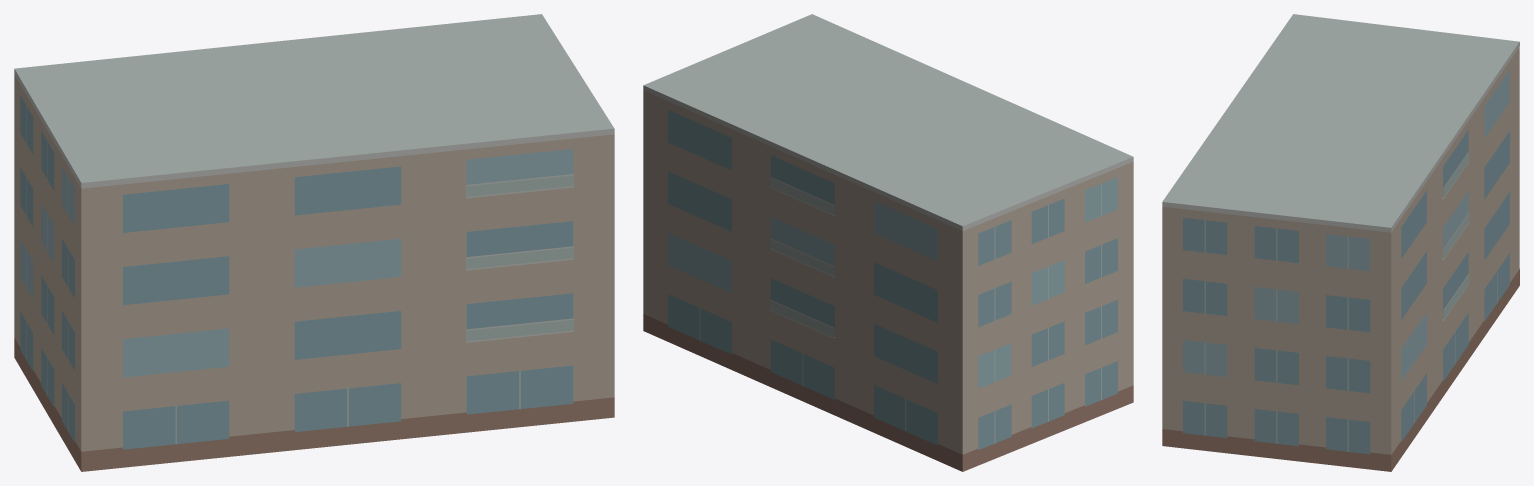
File: survey-upis-32734316.glb
3 views of the same model, side by side, from view 1: azimuth 30°, elevation 25°; view 2: azimuth 150°, elevation 25°; view 3: azimuth 270°, elevation 25° (orthographic). The views are drawn at different scales.
Visible parts, largest first — view 1: survey-upis-32734316.tmp; view 2: survey-upis-32734316.tmp; view 3: survey-upis-32734316.tmp.
Part boxes in pixels (box(x1,y1,x2,y2)): survey-upis-32734316.tmp: box(14, 14, 614, 471); survey-upis-32734316.tmp: box(643, 14, 1133, 471); survey-upis-32734316.tmp: box(1162, 14, 1519, 471).
Bounding box in the file's own units: 23.3 × 12.4 × 16.47.
